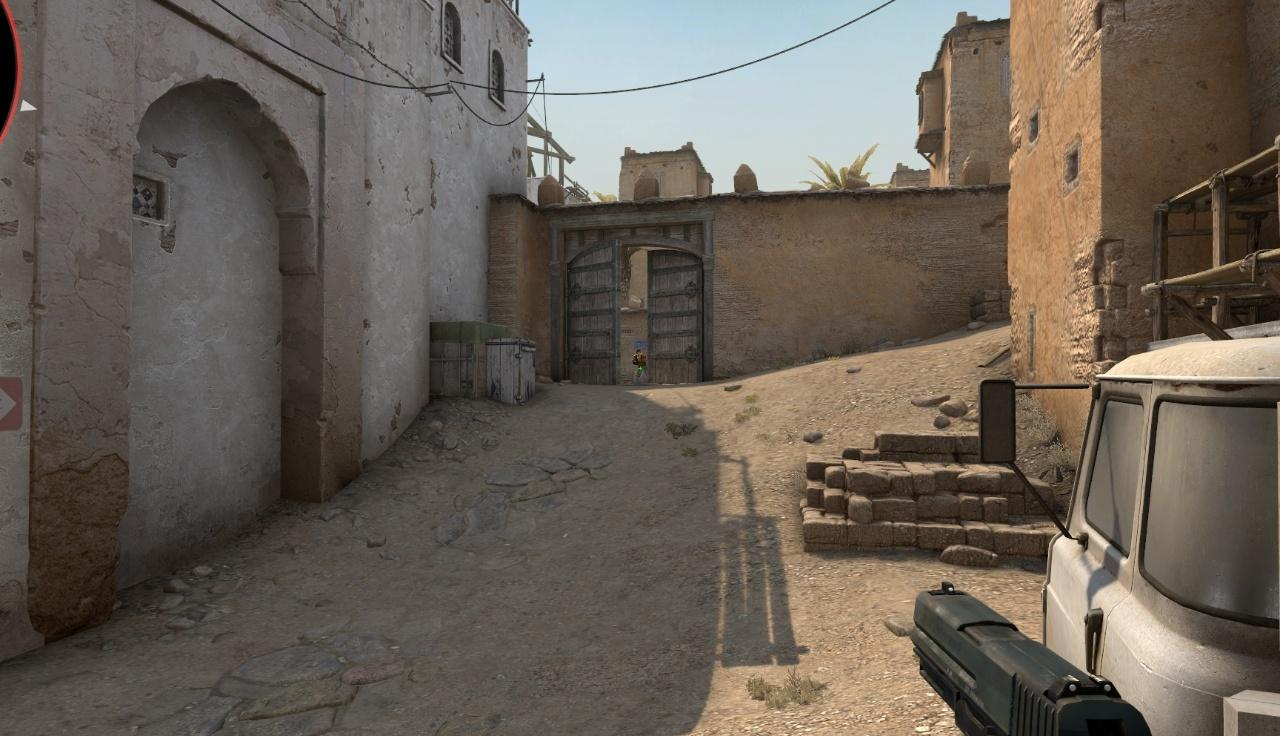pistol: (909, 579, 1152, 736)
tt: (632, 350, 647, 386)
tthead: (636, 349, 641, 356)
